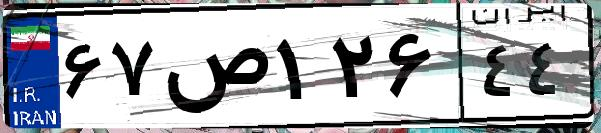1: (270, 28, 330, 110)
2: (330, 28, 385, 110)
4: (475, 38, 525, 113), (525, 38, 570, 115)
6: (385, 28, 445, 110), (57, 26, 110, 100)
7: (110, 28, 158, 98)
ص: (158, 20, 270, 120)
